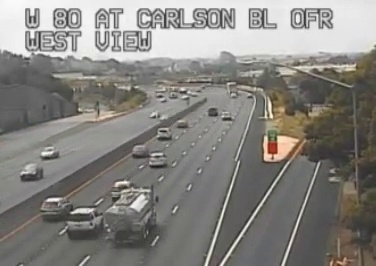car: (66, 207, 104, 233), (40, 197, 71, 219), (112, 180, 133, 198), (149, 153, 167, 166), (132, 145, 148, 157), (157, 128, 171, 139)
tank-truck: (106, 187, 154, 243)
